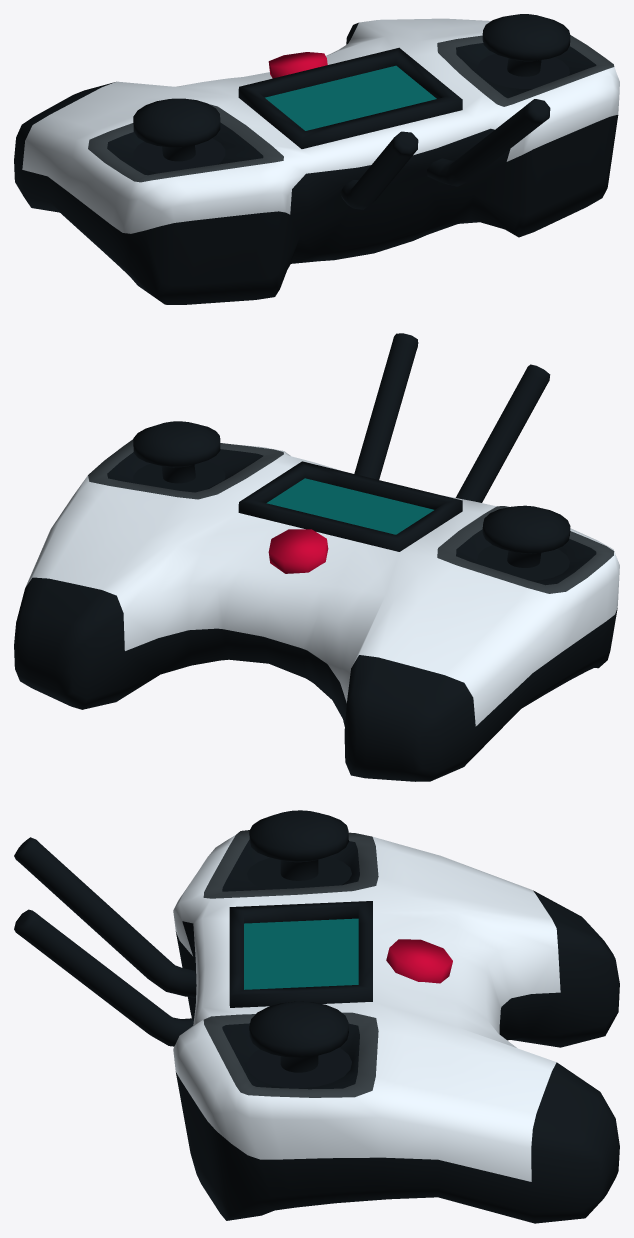
Rendered from Mini_Drone_Set_1_White_Controller_00.fbx.
3 views of the same model, one above another, from view 1: azimuth 30°, elevation 25°; view 2: azimuth 150°, elevation 25°; view 3: azimuth 270°, elevation 25° (orthographic). The views are drawn at different scales.
Visible parts, largest first — view 1: Drone.Controller_1; view 2: Drone.Controller_1; view 3: Drone.Controller_1.
Boxes of the visible parts, left/top/right/bottom form: Drone.Controller_1: left=14, top=14, right=619, bottom=304; Drone.Controller_1: left=14, top=333, right=619, bottom=781; Drone.Controller_1: left=14, top=810, right=619, bottom=1223.
Size of the model in its own units: 0.2865 by 0.117 by 0.2677.
1 material, 1 textured.
